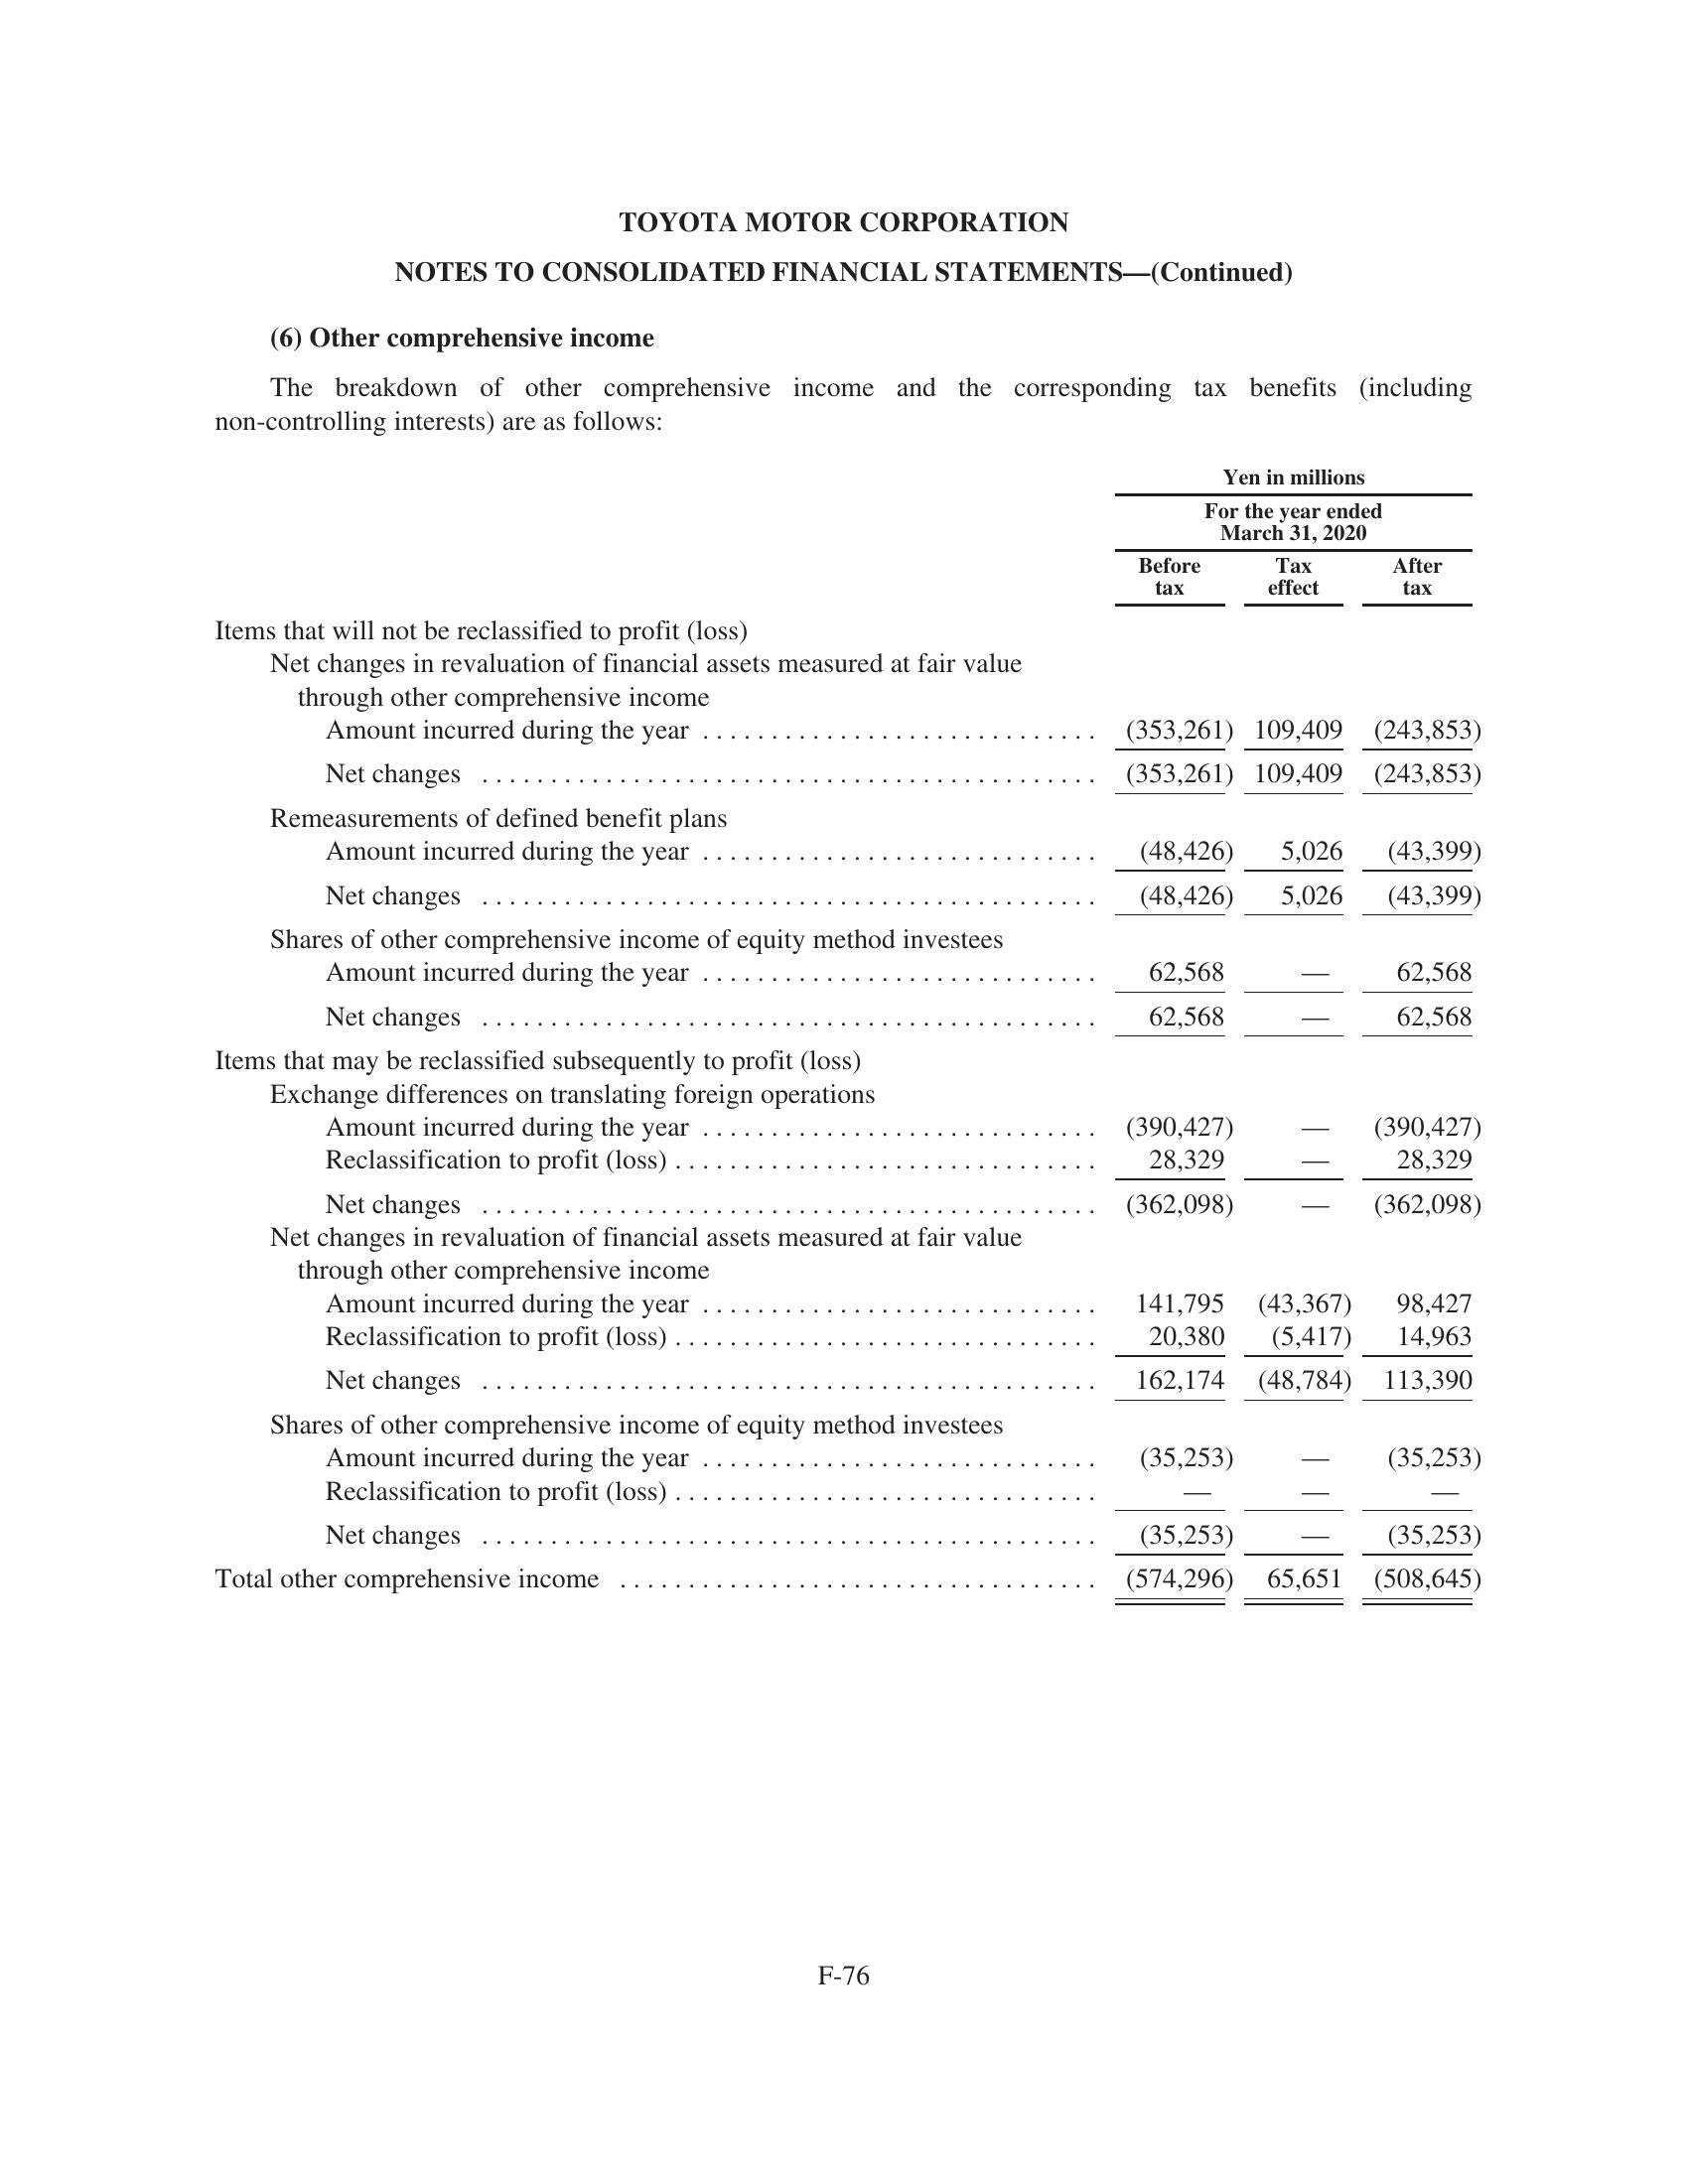Footer: (0, 1959, 1688, 2184)
Header: (0, 0, 1688, 183)
Table: (106, 447, 1504, 1652)
